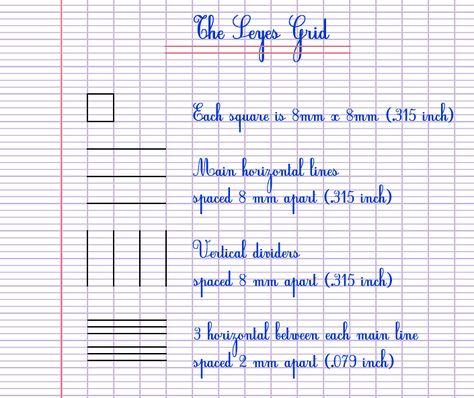text: (190, 319, 420, 358), (191, 101, 455, 134), (191, 12, 332, 63), (192, 347, 396, 381), (190, 266, 394, 299), (190, 184, 393, 216), (191, 156, 341, 194), (190, 238, 301, 262)
